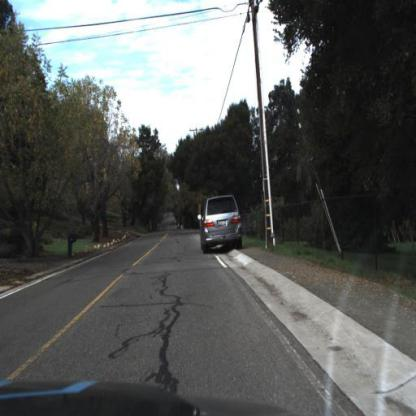car: (190, 183, 247, 264)
